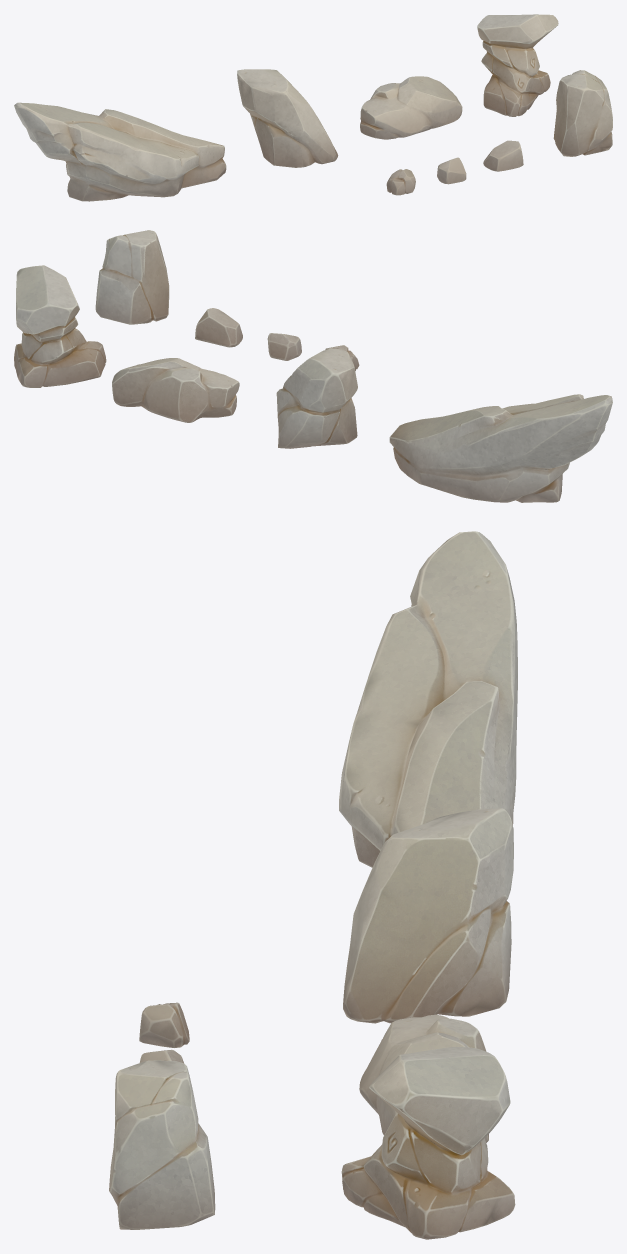
Rendered from stylized_rock.glb.
The picture shows the model from 3 angles, top to bottom: view 1: azimuth 30°, elevation 25°; view 2: azimuth 150°, elevation 25°; view 3: azimuth 270°, elevation 25°; orthographic projection. The views are drawn at different scales.
Visible parts, largest first — view 1: Rock2, Rock7, Rock1, Rock6, Rock8, Rock5, Rock3, Rock4; view 2: Rock2, Rock1, Rock7, Rock6, Rock8, Rock5, Rock4; view 3: Rock2, Rock7, Rock1, Rock8, Rock6, Rock3.
Boxes of the visible parts, x1,y1,x2,y2 form: Rock2: (14, 102, 226, 201); Rock7: (237, 69, 338, 167); Rock1: (477, 14, 558, 116); Rock6: (360, 76, 462, 139); Rock8: (553, 70, 612, 156); Rock5: (483, 140, 523, 171); Rock3: (386, 169, 415, 195); Rock4: (437, 157, 466, 184); Rock2: (389, 394, 612, 502); Rock1: (14, 265, 106, 387); Rock7: (276, 348, 357, 448); Rock6: (112, 358, 239, 422); Rock8: (95, 230, 169, 324); Rock5: (195, 308, 242, 347); Rock4: (267, 333, 301, 360); Rock2: (339, 531, 517, 867); Rock7: (343, 808, 513, 1023); Rock1: (341, 1047, 515, 1239); Rock8: (109, 1060, 215, 1229); Rock6: (359, 1014, 488, 1142); Rock3: (139, 1002, 189, 1047).
Size of the model in its own units: 9.69 by 1.88 by 3.27.
Materials: 1 (1 with a texture image).
